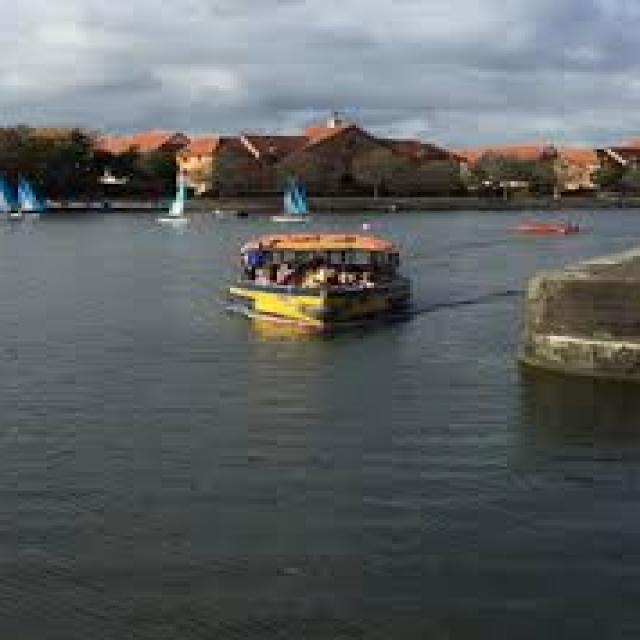passenger ship: (218, 215, 428, 334)
sailboat: (150, 148, 209, 236), (10, 155, 67, 222), (271, 174, 321, 226), (0, 162, 25, 210)
